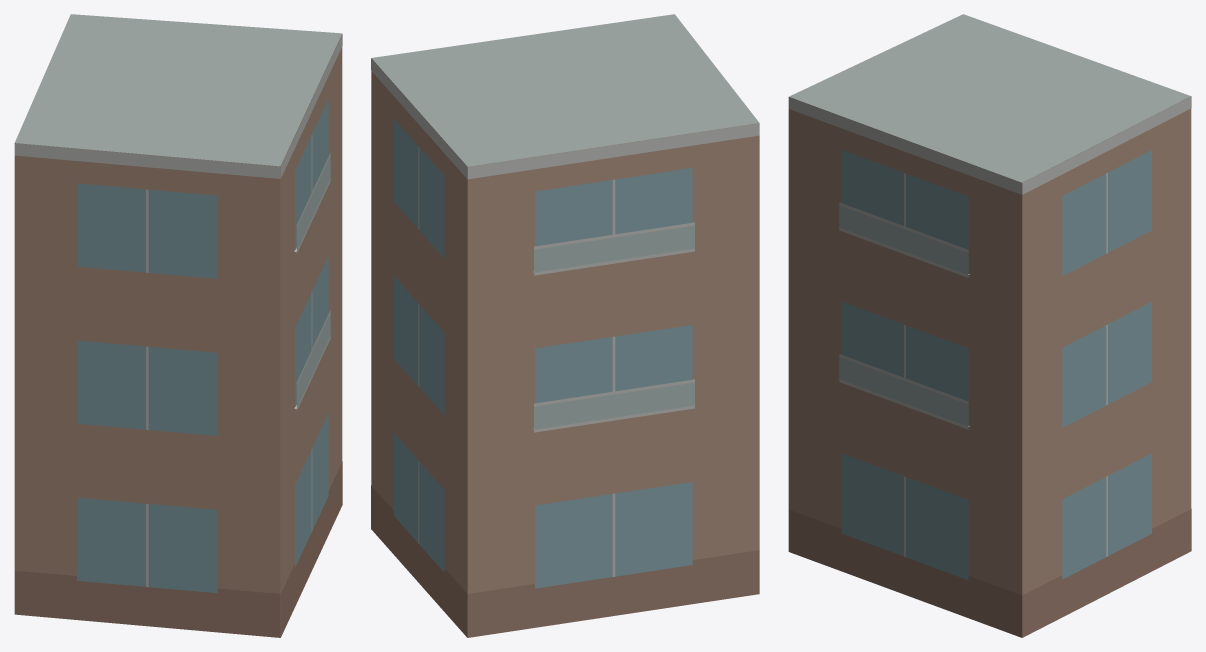
File: survey-upis-32477103.glb
The picture shows the model from 3 angles, left to right: view 1: azimuth 30°, elevation 25°; view 2: azimuth 150°, elevation 25°; view 3: azimuth 270°, elevation 25°; orthographic projection. The views are drawn at different scales.
Visible parts, largest first — view 1: survey-upis-32477103.tmp; view 2: survey-upis-32477103.tmp; view 3: survey-upis-32477103.tmp.
Boxes of the visible parts, box(x1,y1,x2,y2) form: survey-upis-32477103.tmp: box(14, 14, 342, 637); survey-upis-32477103.tmp: box(371, 14, 759, 637); survey-upis-32477103.tmp: box(788, 14, 1191, 637).
Size of the model in its own units: 7.29 by 9.15 by 7.34.
